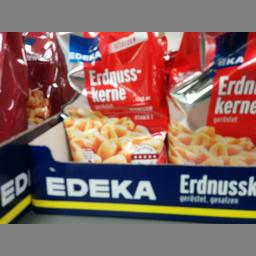nuts: (55, 30, 166, 164), (166, 30, 255, 164)
